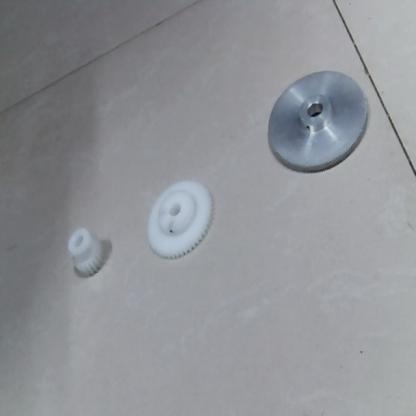FOD: (265, 69, 372, 175), (144, 175, 218, 263), (66, 229, 110, 282)
